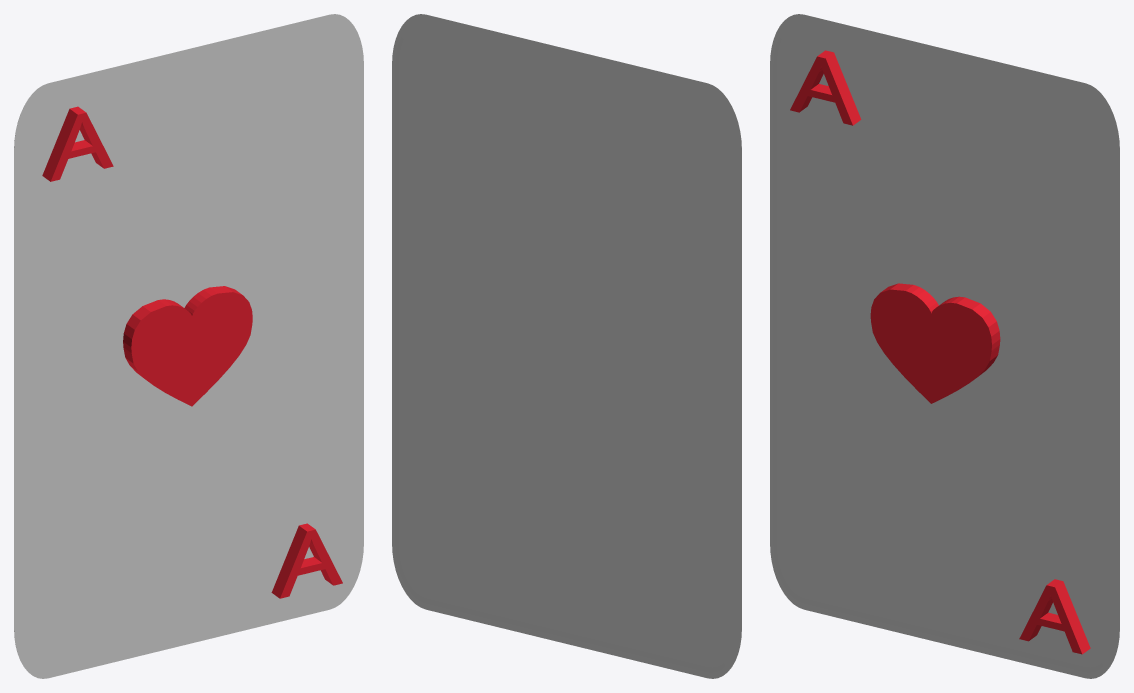
The model's file is ace_hearts.obj.
The picture shows the model from 3 angles, left to right: view 1: azimuth 30°, elevation 25°; view 2: azimuth 150°, elevation 25°; view 3: azimuth 330°, elevation 25°; orthographic projection.
Parts seen in each view (by area): view 1: group_0_16448250, group_0_15277357; view 2: group_0_16448250; view 3: group_0_16448250, group_0_15277357.
Part boxes in pixels (left/top/right/bottom): group_0_16448250: left=14, top=14, right=363, bottom=678; group_0_15277357: left=42, top=106, right=342, bottom=598; group_0_16448250: left=392, top=14, right=741, bottom=678; group_0_16448250: left=770, top=14, right=1119, bottom=678; group_0_15277357: left=790, top=50, right=1090, bottom=654.
Size of the model in its own units: 24 by 39 by 1.
